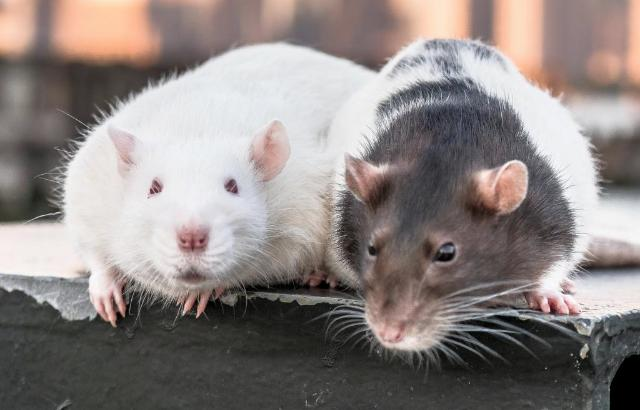rat: (323, 38, 589, 366), (50, 35, 334, 323)
